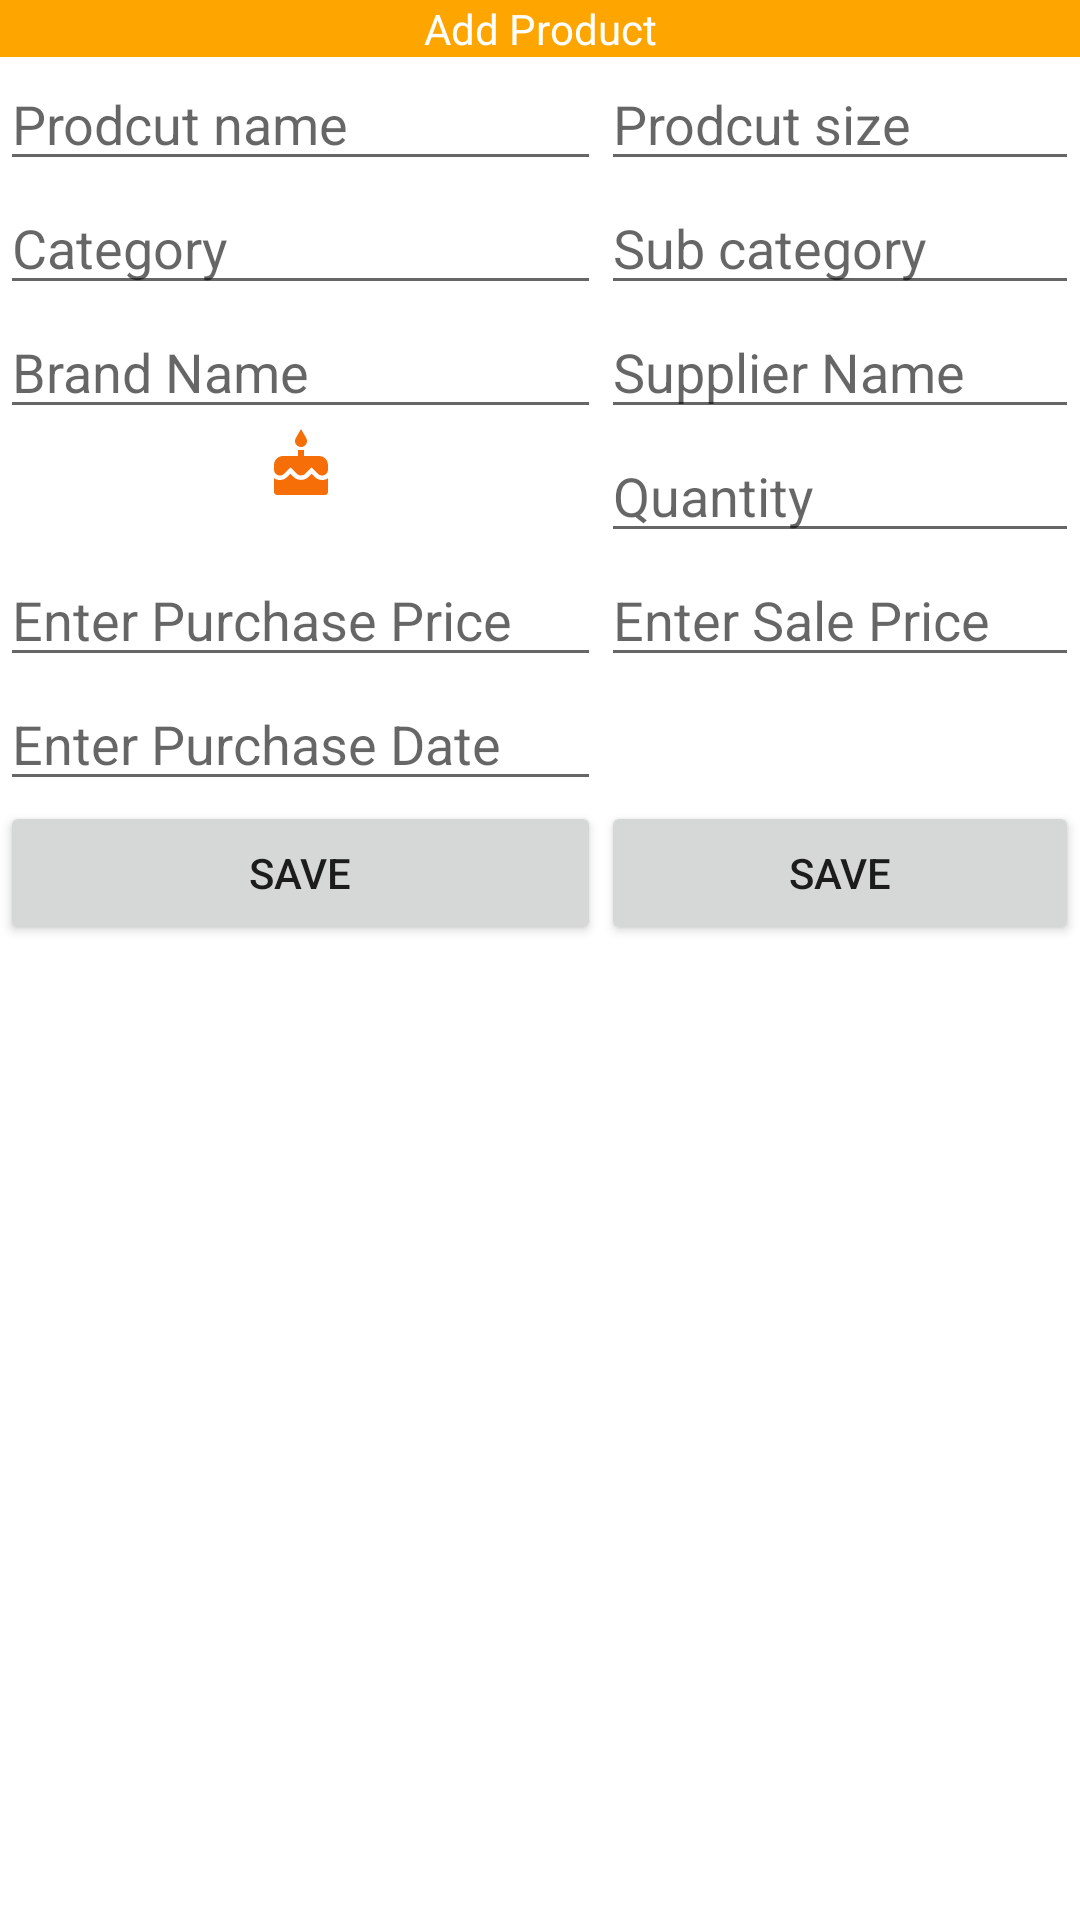

Point at icon controls on the screen. Image size 1080px x 1920px, points as (x,y).
cake: (301,462)
